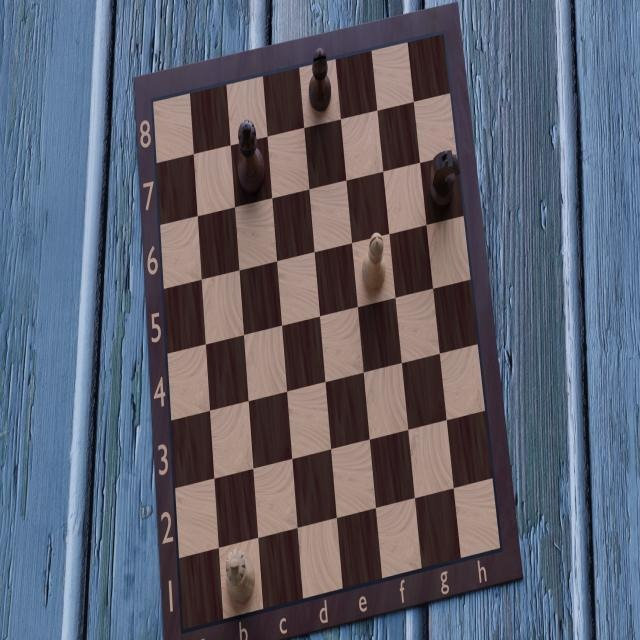black-bishop: (306, 45, 334, 118)
black-king: (233, 114, 267, 197)
black-knight: (426, 141, 461, 215)
white-bishop: (359, 224, 388, 299)
white-king: (222, 535, 260, 613)
